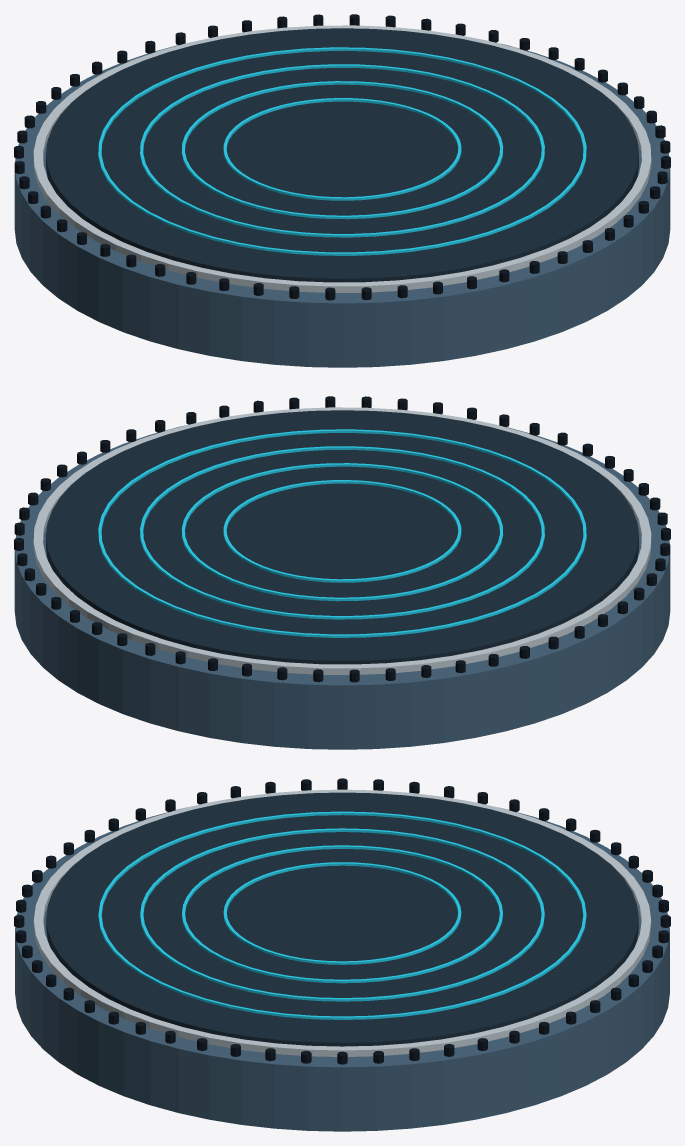
File: 26_L77_SoftLandingPolishingPlaten.fbx
3 views of the same model, one above another, from view 1: azimuth 30°, elevation 25°; view 2: azimuth 150°, elevation 25°; view 3: azimuth 270°, elevation 25° (orthographic).
Visible parts, largest first — view 1: SoftLandingPolishingPlaten_Part_0006, SoftLandingPolishingPlaten_Part_0000, SoftLandingPolishingPlaten_Part_0001, SoftLandingPolishingPlaten_Part_0063, SoftLandingPolishingPlaten_Part_0064, SoftLandingPolishingPlaten_Part_0065, SoftLandingPolishingPlaten_Part_0066; view 2: SoftLandingPolishingPlaten_Part_0006, SoftLandingPolishingPlaten_Part_0000, SoftLandingPolishingPlaten_Part_0001, SoftLandingPolishingPlaten_Part_0063, SoftLandingPolishingPlaten_Part_0064, SoftLandingPolishingPlaten_Part_0065, SoftLandingPolishingPlaten_Part_0066; view 3: SoftLandingPolishingPlaten_Part_0006, SoftLandingPolishingPlaten_Part_0000, SoftLandingPolishingPlaten_Part_0001, SoftLandingPolishingPlaten_Part_0063, SoftLandingPolishingPlaten_Part_0064, SoftLandingPolishingPlaten_Part_0065, SoftLandingPolishingPlaten_Part_0066.
Part boxes in pixels (x1,y1,x2,y2): SoftLandingPolishingPlaten_Part_0006: (46,28,638,282); SoftLandingPolishingPlaten_Part_0000: (14,43,670,367); SoftLandingPolishingPlaten_Part_0001: (33,25,651,292); SoftLandingPolishingPlaten_Part_0063: (98,47,586,255); SoftLandingPolishingPlaten_Part_0064: (140,64,544,237); SoftLandingPolishingPlaten_Part_0065: (181,81,503,219); SoftLandingPolishingPlaten_Part_0066: (223,98,461,200); SoftLandingPolishingPlaten_Part_0006: (46,410,638,664); SoftLandingPolishingPlaten_Part_0000: (14,425,670,749); SoftLandingPolishingPlaten_Part_0001: (33,407,651,674); SoftLandingPolishingPlaten_Part_0063: (98,429,586,637); SoftLandingPolishingPlaten_Part_0064: (140,446,544,619); SoftLandingPolishingPlaten_Part_0065: (181,463,503,601); SoftLandingPolishingPlaten_Part_0066: (223,480,461,582); SoftLandingPolishingPlaten_Part_0006: (46,792,638,1046); SoftLandingPolishingPlaten_Part_0000: (15,807,669,1131); SoftLandingPolishingPlaten_Part_0001: (33,789,651,1056); SoftLandingPolishingPlaten_Part_0063: (98,811,586,1019); SoftLandingPolishingPlaten_Part_0064: (140,828,544,1001); SoftLandingPolishingPlaten_Part_0065: (182,845,502,983); SoftLandingPolishingPlaten_Part_0066: (223,862,461,964).
Size of the model in its own units: 315 by 42.8 by 315.
